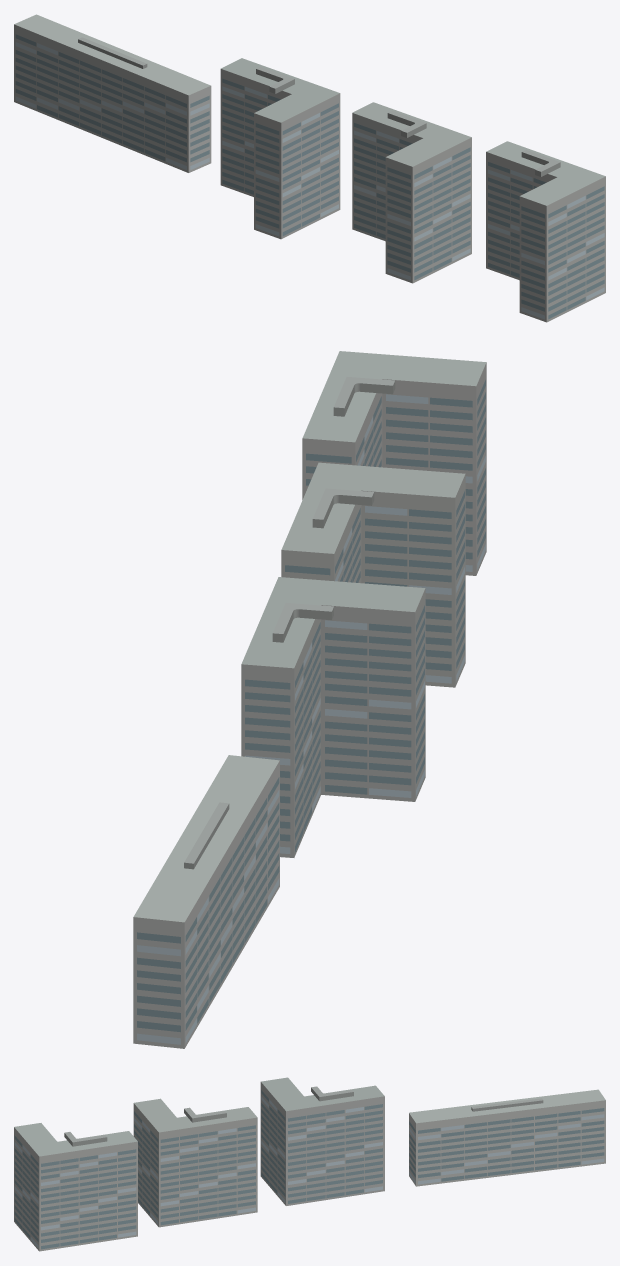
File: apt-a15288004.glb
3 views of the same model, one above another, from view 1: azimuth 30°, elevation 25°; view 2: azimuth 150°, elevation 25°; view 3: azimuth 270°, elevation 25° (orthographic). The views are drawn at different scales.
Parts seen in each view (by area): view 1: apt-a15288004; view 2: apt-a15288004; view 3: apt-a15288004.
Boxes of the visible parts, left/top/right/bottom form: apt-a15288004: left=14, top=14, right=605, bottom=322; apt-a15288004: left=133, top=351, right=486, bottom=1048; apt-a15288004: left=14, top=1077, right=605, bottom=1251.
Bounding box in the file's own units: 102 × 47.81 × 259.
